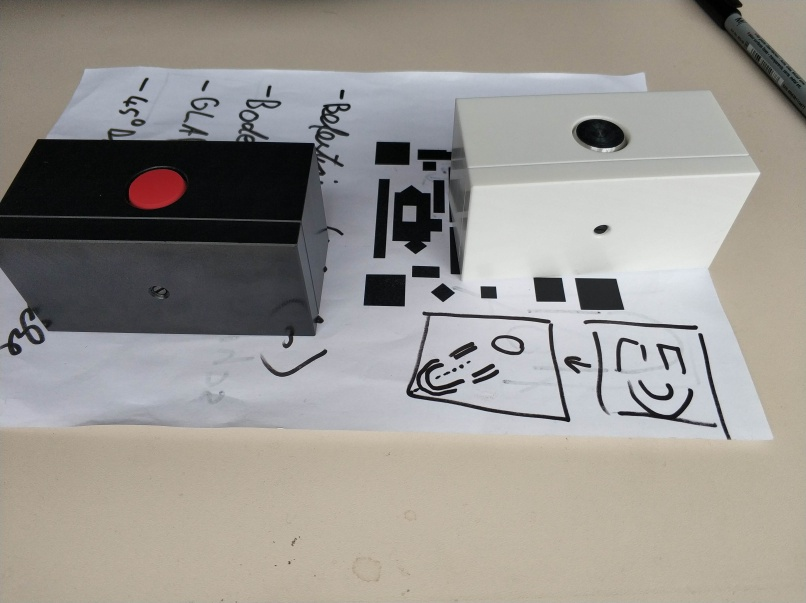black+black+red: (1, 139, 332, 339)
white+white+silver: (449, 85, 761, 290)
